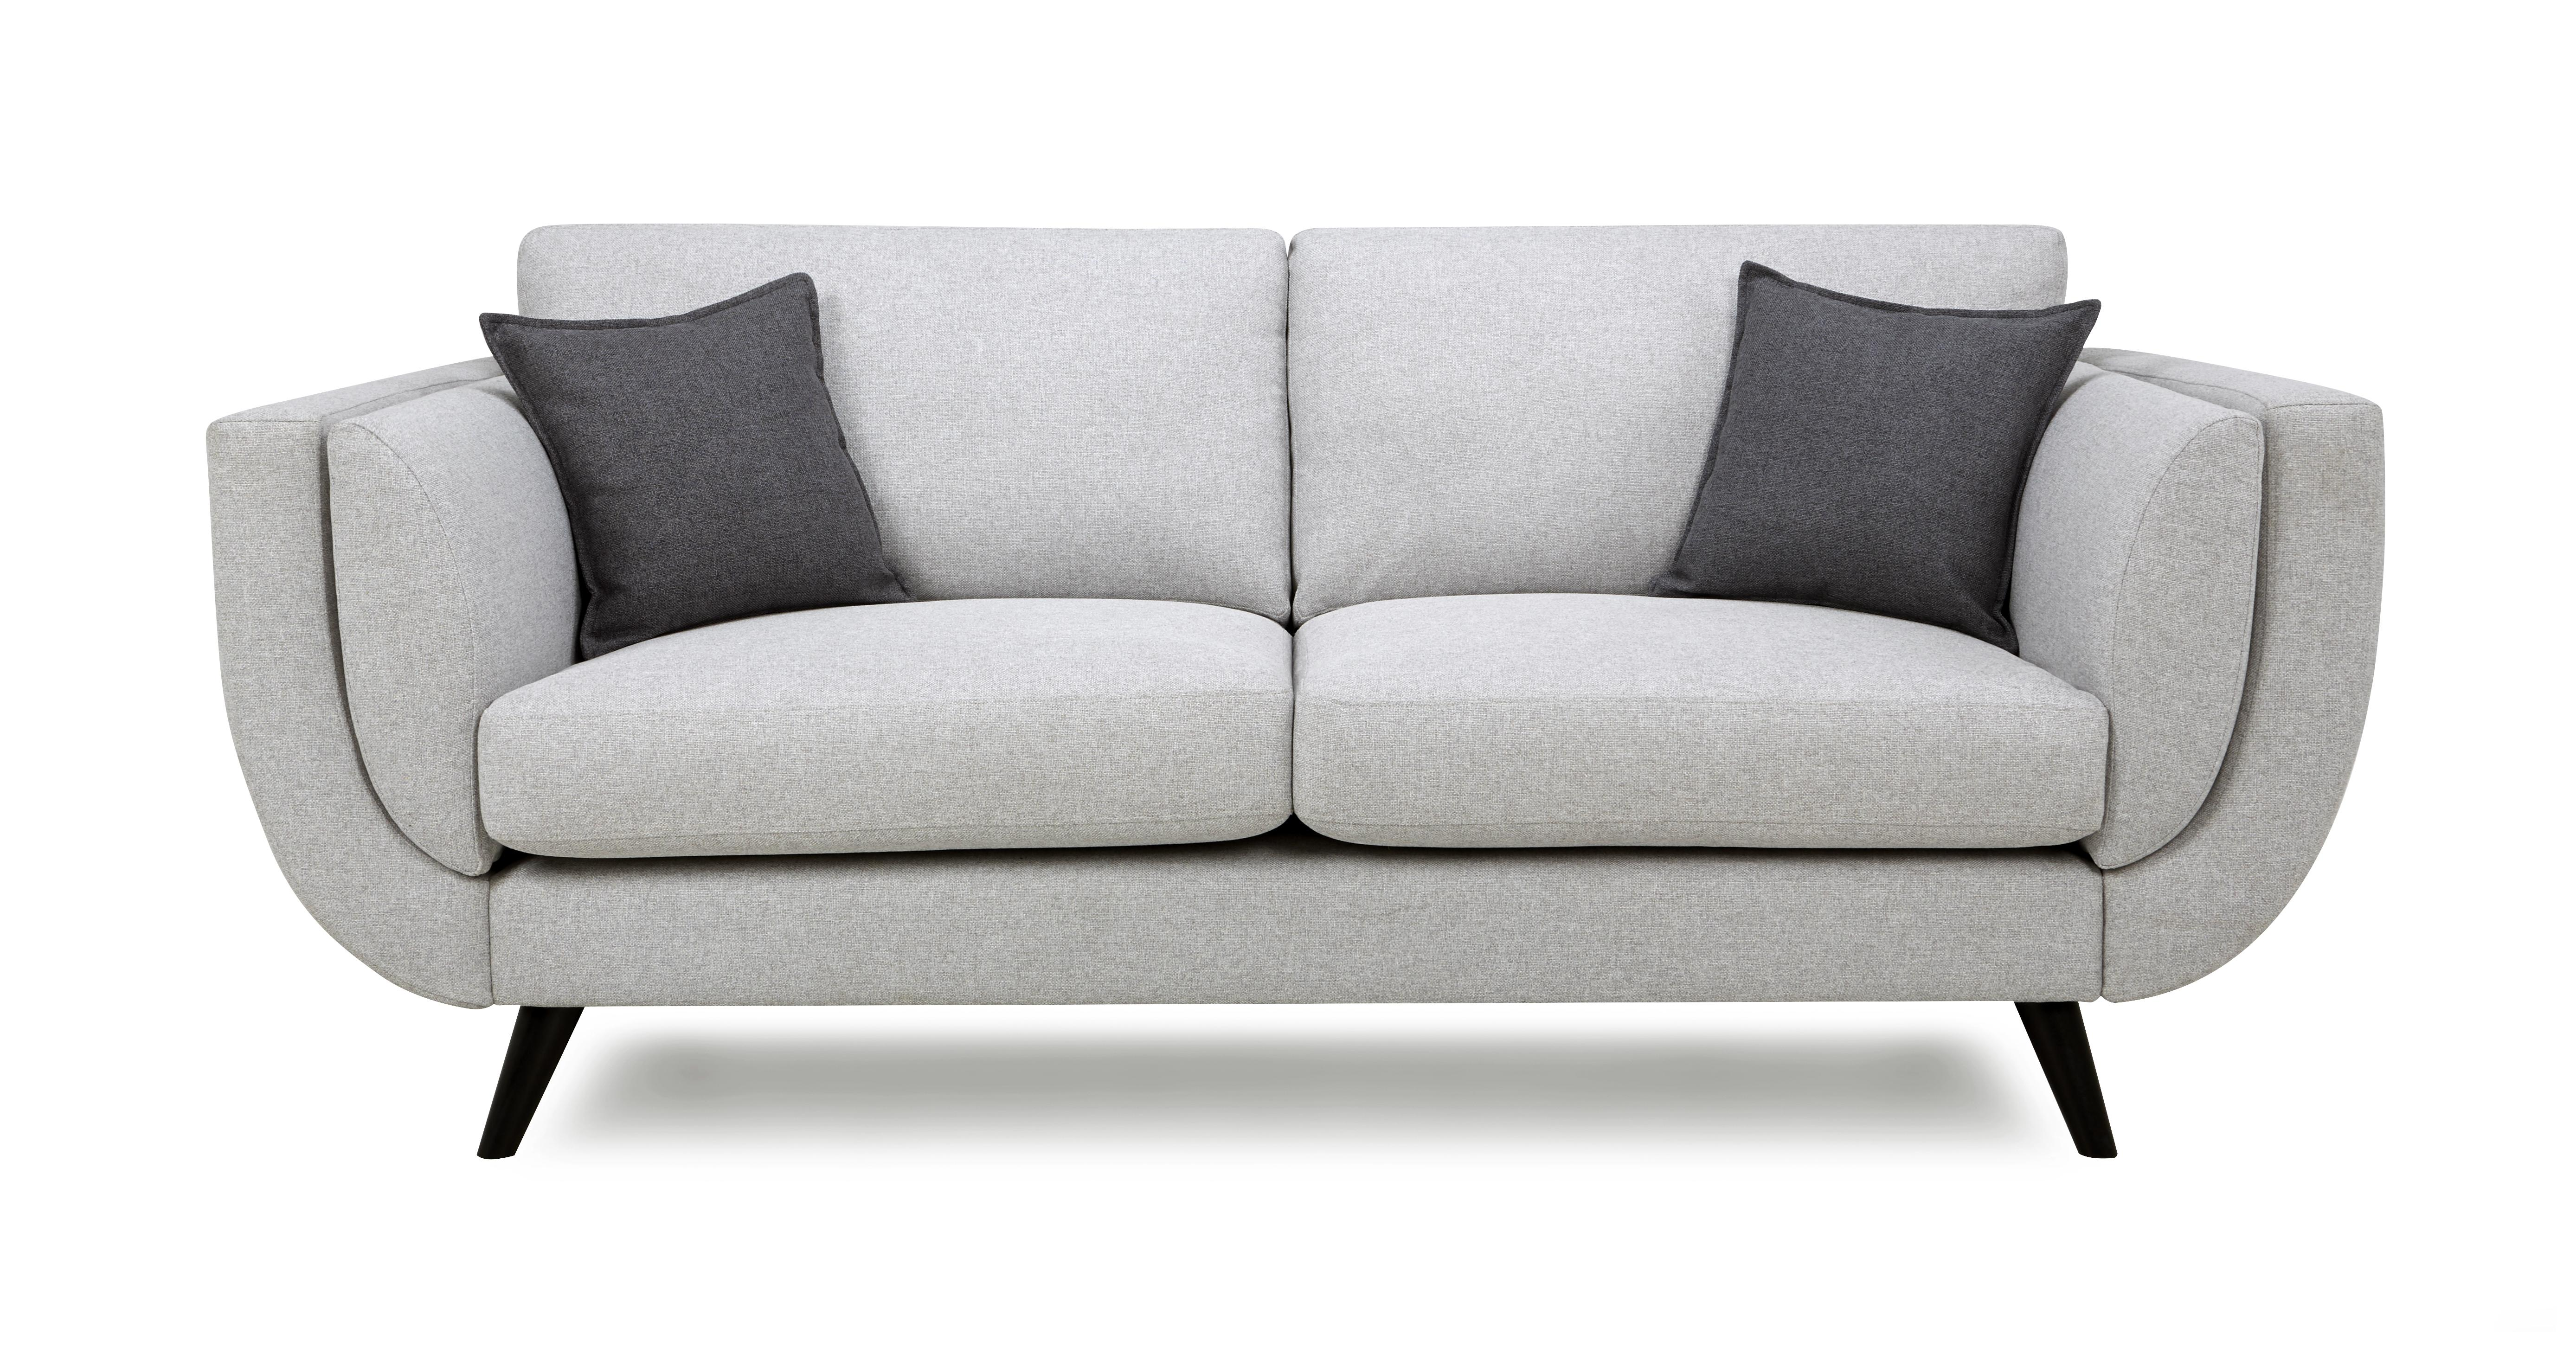chairs: (196, 215, 2390, 1181)
